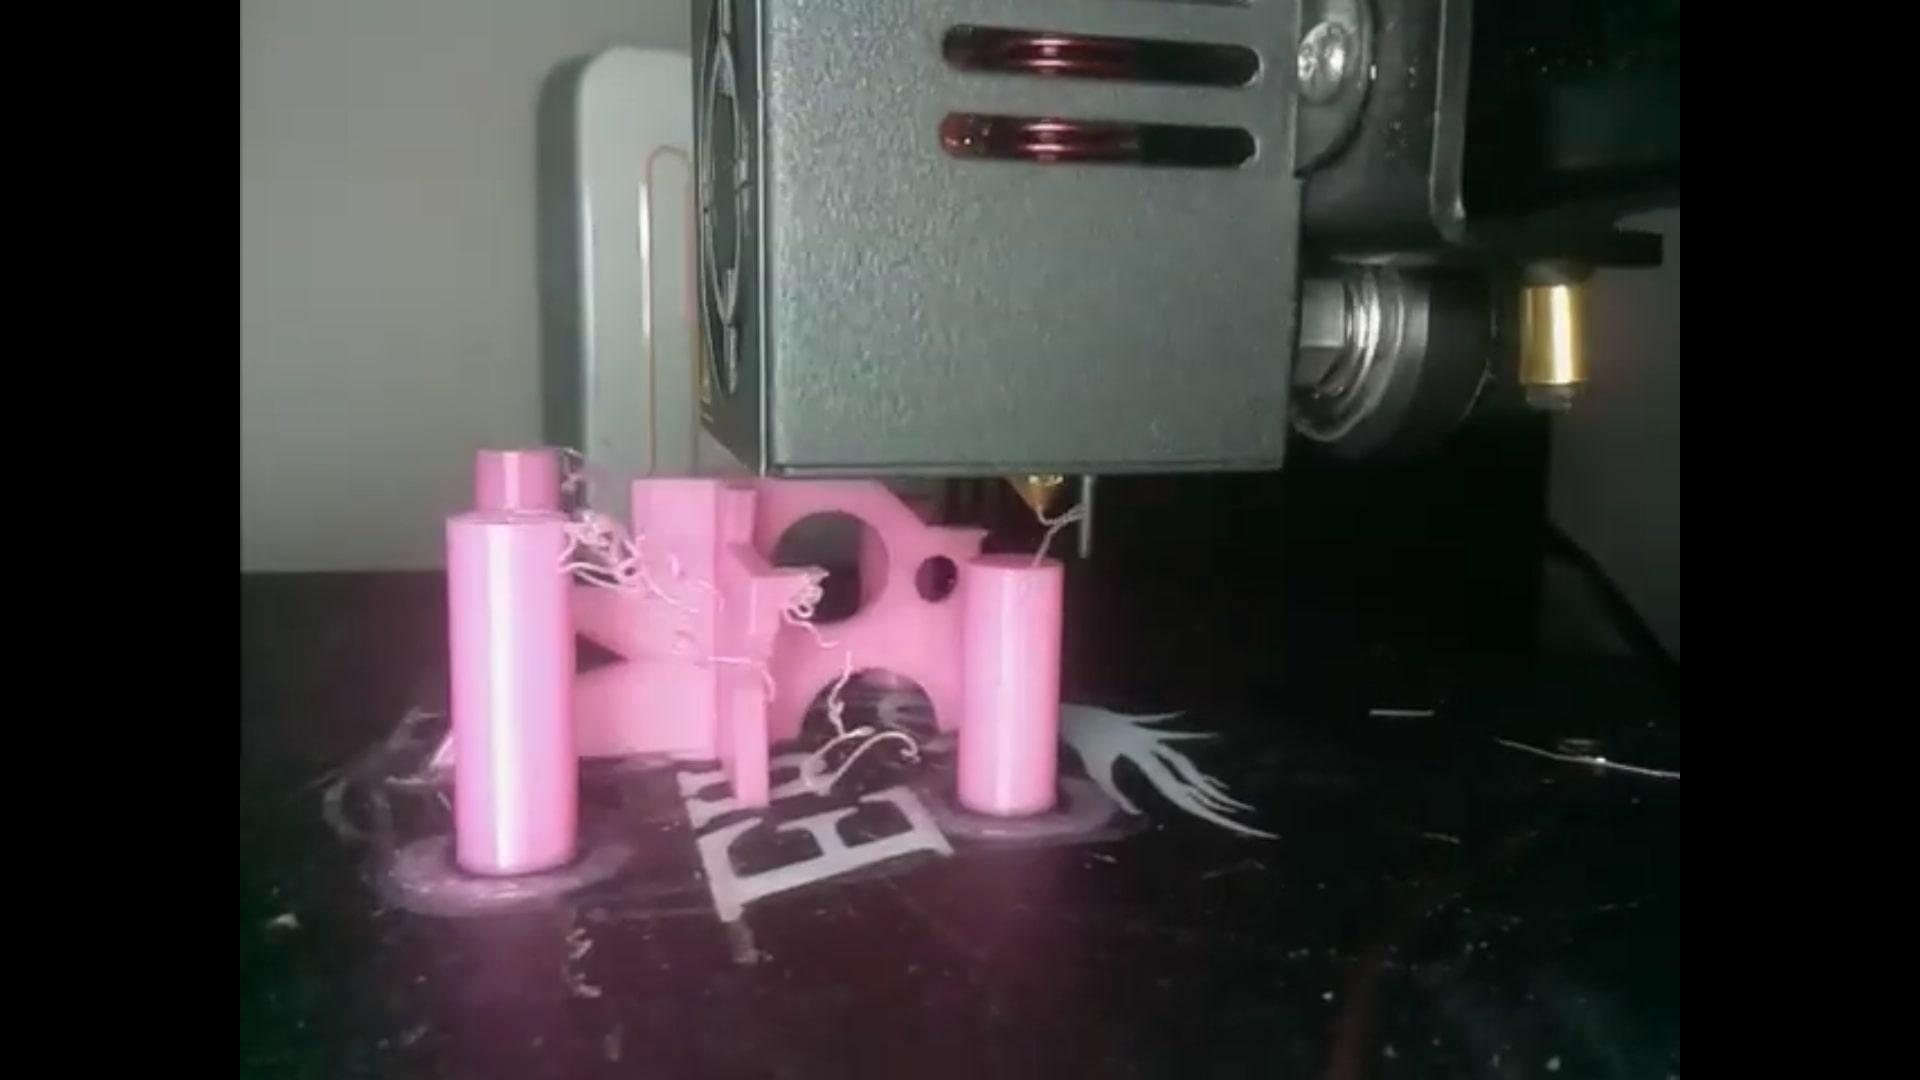Printing-Artifact: (558, 496, 719, 626)
